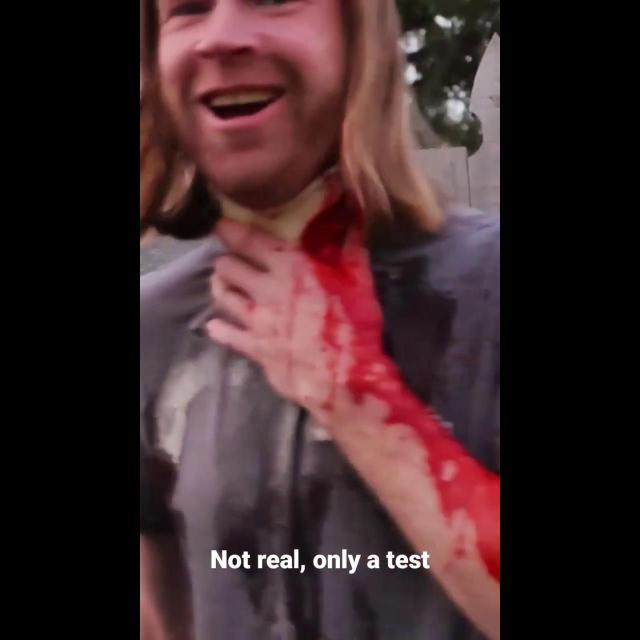blood: (300, 173, 500, 581)
